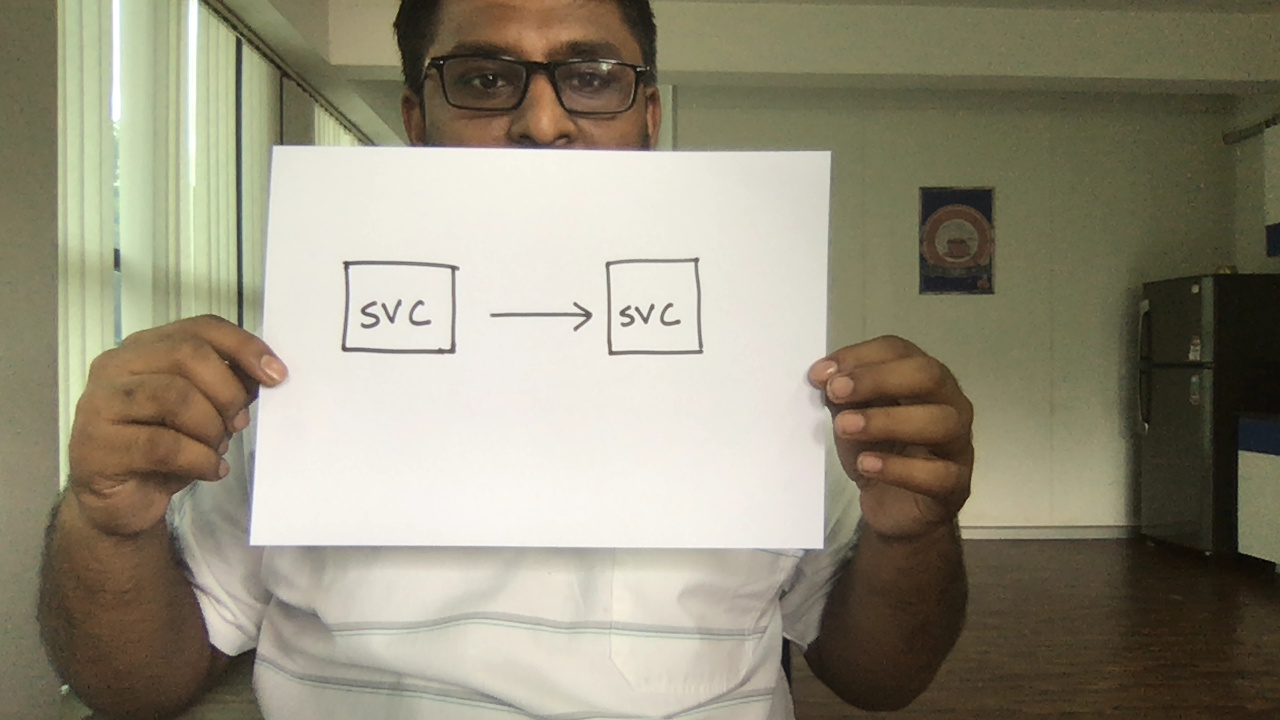arrow: (477, 289, 601, 348)
ec2: (333, 250, 468, 367), (600, 250, 716, 365)
